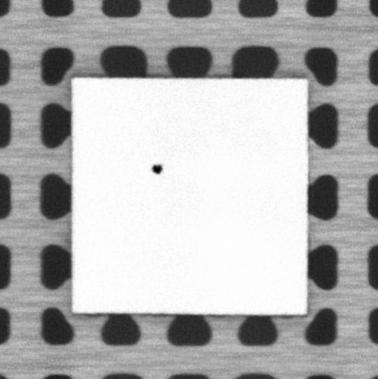DIE_INK: (150, 162, 164, 176)
